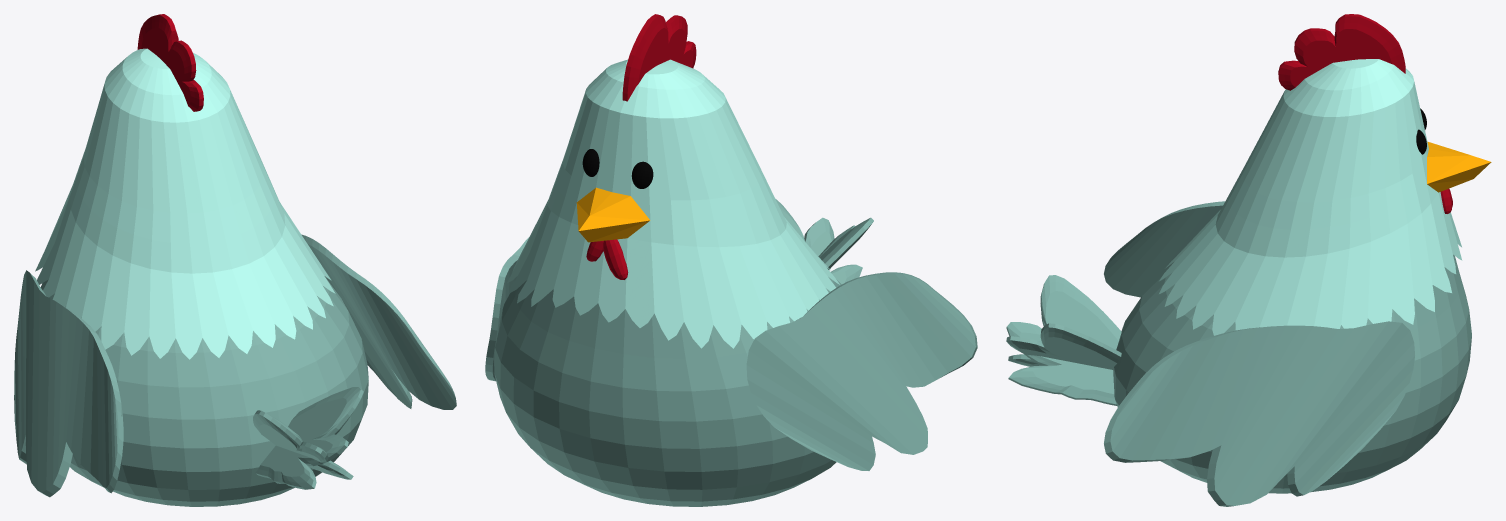
Rendered from chicken.glb.
3 views of the same model, side by side, from view 1: azimuth 30°, elevation 25°; view 2: azimuth 150°, elevation 25°; view 3: azimuth 270°, elevation 25° (orthographic). The views are drawn at different scales.
Visible parts, largest first — view 1: head.001, body, wing2, wing, headgob.001, headgob, headgob.002; view 2: head.001, body, wing2, headgob, headgob.001, wing, headgob.002, eyes, gobble2; view 3: head.001, wing, body, headgob.002, wing2, headgob, headgob.001.
Boxes of the visible parts, x1,y1,x2,y2 form: head.001: (35,48,335,359); body: (40,278,368,506); wing2: (14,270,123,497); wing: (301,234,456,409); headgob.001: (255,387,363,489); headgob: (137,14,203,111); headgob.002: (253,410,353,479); head.001: (507,59,840,348); body: (494,277,841,506); wing2: (746,272,977,470); headgob: (622,14,696,101); headgob.001: (775,199,862,284); wing: (485,237,529,381); headgob.002: (818,217,873,269); eyes: (582,149,653,188); gobble2: (603,239,628,279); head.001: (1159,59,1491,335); wing: (1104,321,1414,506); body: (1113,254,1471,493); headgob.002: (1006,275,1121,405); wing2: (1104,201,1224,297); headgob: (1278,14,1405,90); headgob.001: (1006,323,1121,369).
Bounding box in the file's own units: 0.2462 × 0.2764 × 0.2717.
